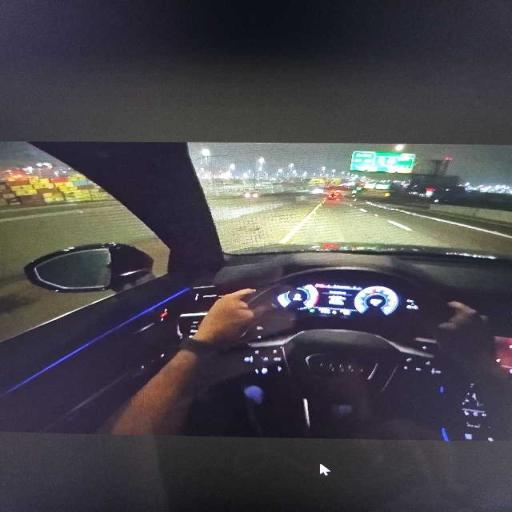car: (0, 143, 511, 440), (326, 189, 343, 201), (242, 190, 259, 198)
lane: (0, 202, 169, 341), (288, 202, 511, 254), (367, 203, 511, 254)
person: (100, 289, 262, 434)
